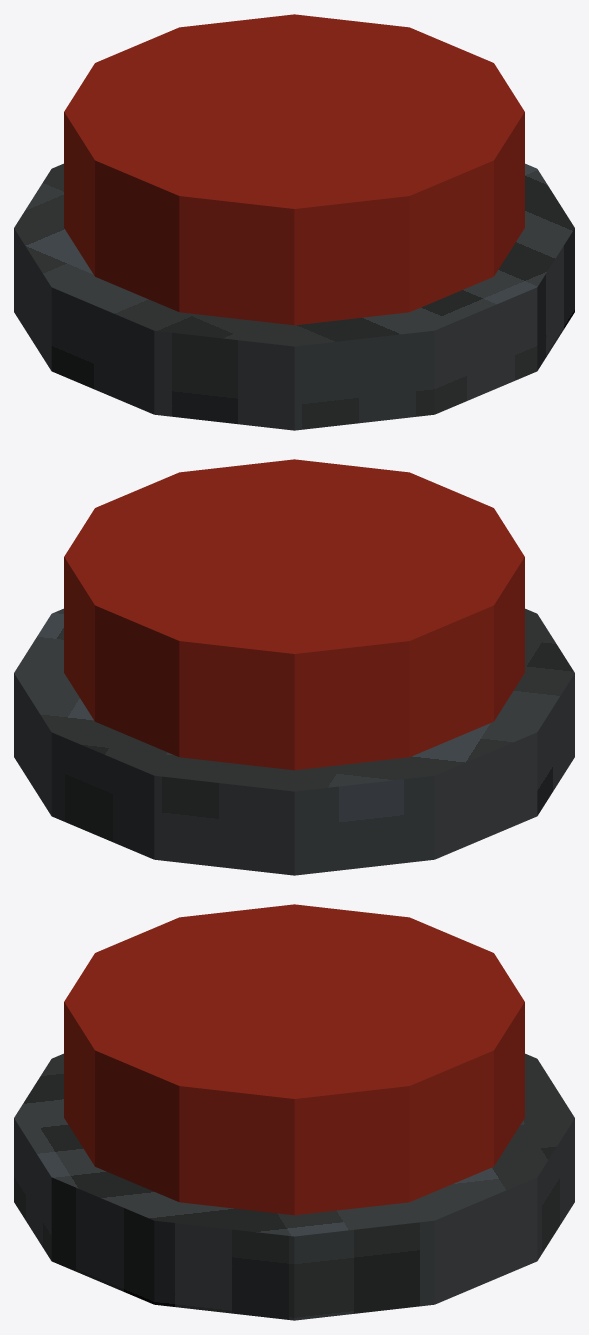
Rendered from button.glb.
The picture shows the model from 3 angles, top to bottom: view 1: azimuth 30°, elevation 25°; view 2: azimuth 150°, elevation 25°; view 3: azimuth 270°, elevation 25°; orthographic projection.
Parts seen in each view (by area): view 1: in, out; view 2: in, out; view 3: in, out.
Boxes of the visible parts, <box> form: in: <box>64,14,524,325</box>; out: <box>14,163,574,430</box>; in: <box>64,459,524,770</box>; out: <box>14,608,574,875</box>; in: <box>64,904,524,1215</box>; out: <box>14,1053,574,1320</box>.
Bounding box in the file's own units: 0.2 × 0.0788 × 0.2.
2 materials, 2 textured.
